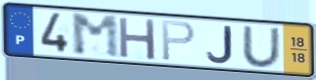4: (38, 11, 71, 55)
H: (117, 15, 158, 62)
J: (205, 25, 235, 65)
M: (69, 12, 123, 60)
P: (161, 19, 198, 63)
U: (240, 25, 283, 70)
